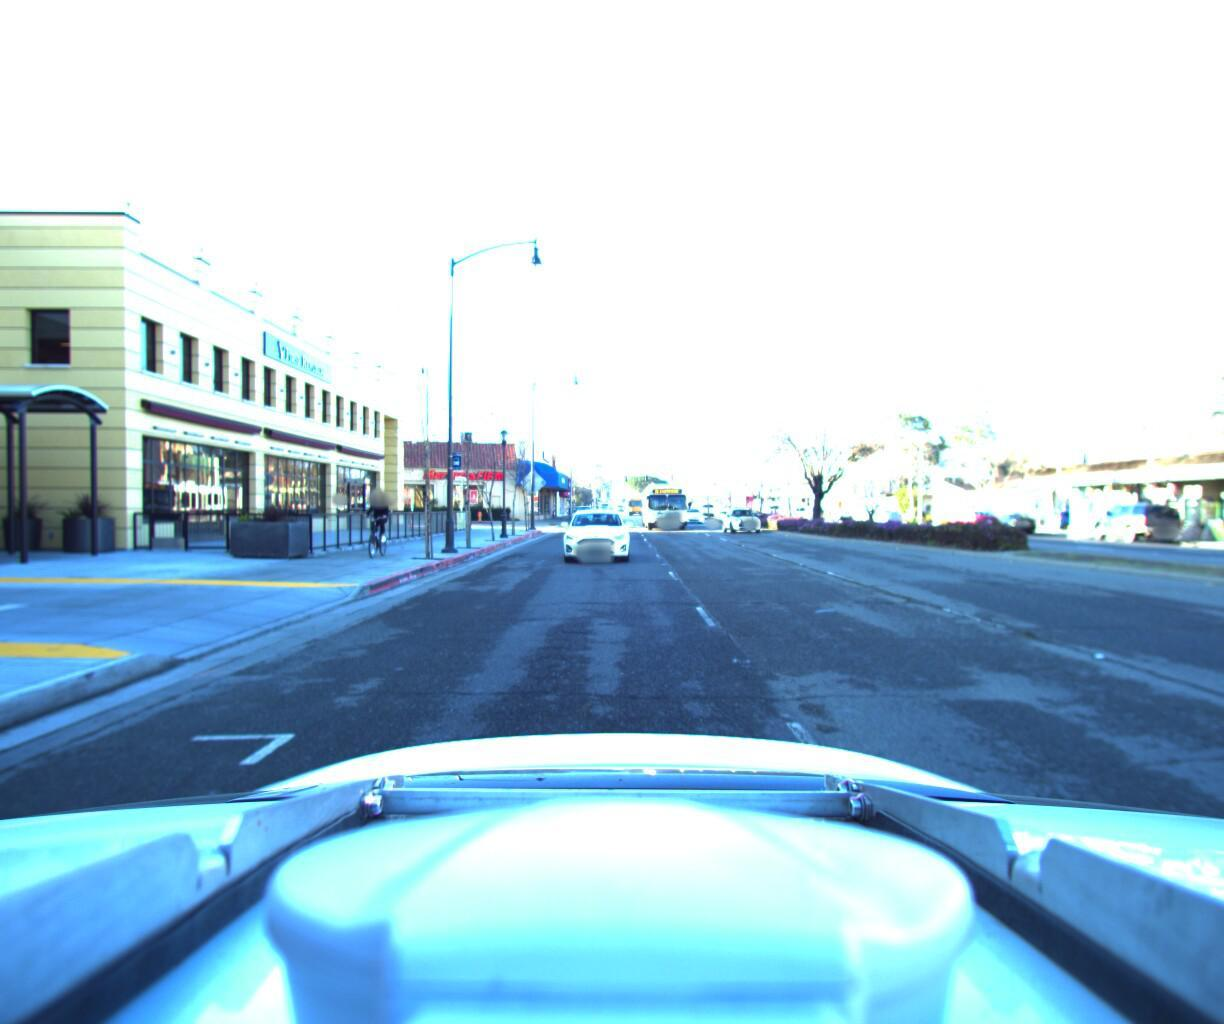bicycle: (356, 485, 397, 556)
bus: (637, 471, 696, 527)
car: (562, 497, 634, 561), (1085, 495, 1186, 539), (939, 500, 1000, 527), (722, 494, 769, 527), (980, 504, 1041, 528), (1041, 502, 1103, 524), (961, 499, 1007, 519), (871, 501, 906, 518), (682, 499, 709, 517), (570, 500, 595, 519)
